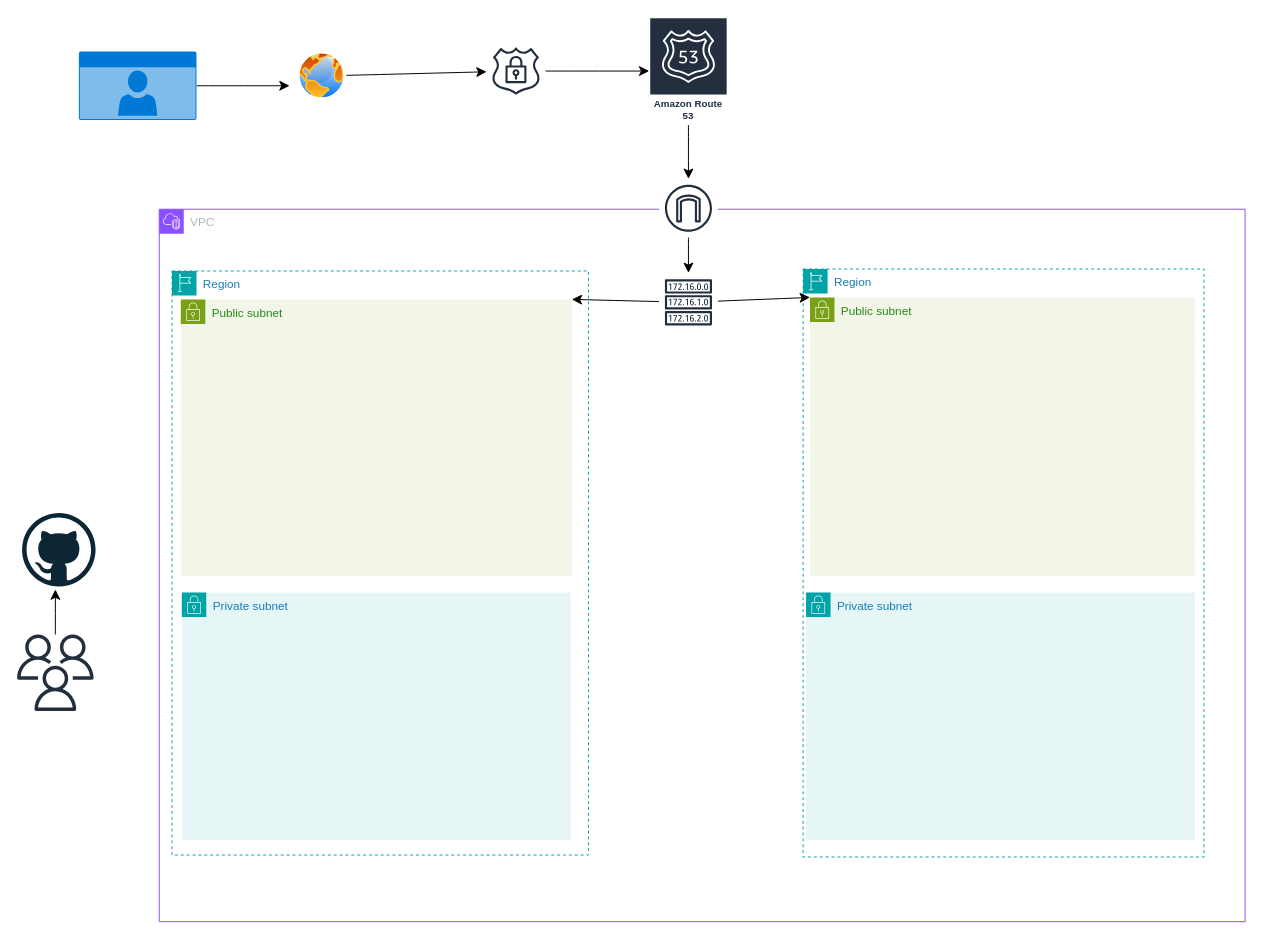
This 1272x949 diagram has some shape labels left out. Here are the shapes that lost their labels. From the top down, the centre of each, then its label:
(137,85): User
(515,70): SSL padlock
(688,208): Internet gateway
(688,302): Route table
